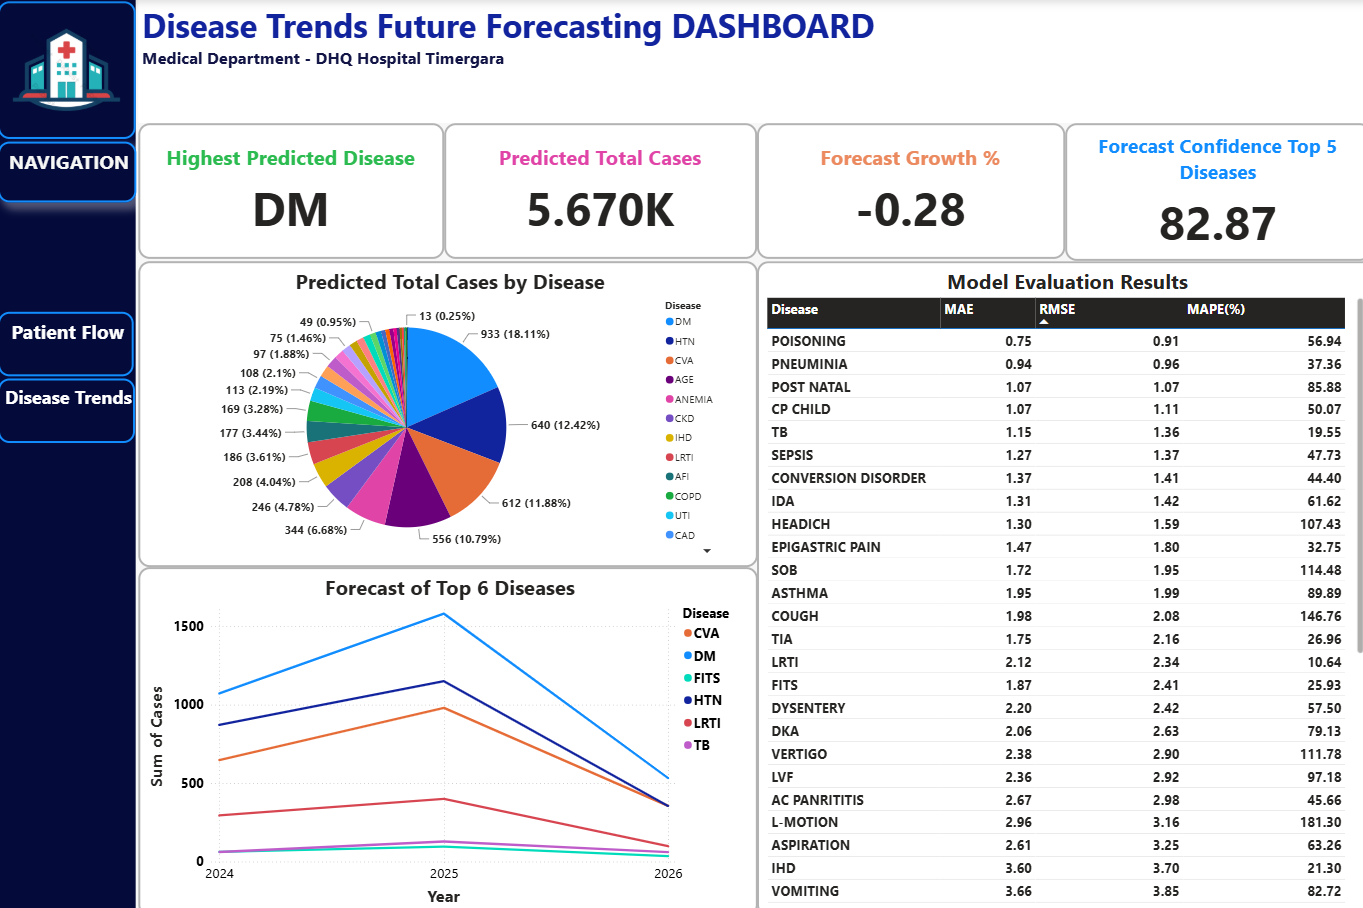

The page's visual inventory and layout, read from the dashboard file:
{"tool":"powerbi","page":{"name":"Forecasting","canvas":[1800,1200],"ordinal":2},"visuals":[{"type":"textbox","box":[0,0,180,1200],"z":0},{"type":"image","box":[0,2.9,180,180],"z":1000},{"type":"textbox","title":"NAVIGATION","box":[0,186.4,181,79.5],"z":2000},{"type":"actionButton","title":"Patient Flow","box":[0,409,177.4,84.2],"z":3000},{"type":"actionButton","title":"Disease Trends","box":[0,496.2,179,84.2],"z":4000},{"type":"textbox","box":[183.4,0,1617.8,162.4],"z":5000},{"type":"cardVisual","fields":{"Data":["COMBINED_DISEASE_DATASET.Highest Predicted Disease"]},"box":[183.4,162.4,399.9,177.4],"z":6000},{"type":"cardVisual","fields":{"Data":["COMBINED_DISEASE_DATASET.Predicted Total Cases"]},"box":[583.4,162.4,409,177.4],"z":7000},{"type":"cardVisual","fields":{"Data":["COMBINED_DISEASE_DATASET.Forecast Growth %"]},"box":[992.3,162.4,402.9,177.4],"z":8000},{"type":"cardVisual","fields":{"Data":["COMBINED_DISEASE_DATASET.Forecast Confidence"]},"box":[1396.7,163.3,400,180],"z":9000},{"type":"pieChart","fields":{"Category":["COMBINED_DISEASE_DATASET.Disease"],"Y":["COMBINED_DISEASE_DATASET.Predicted Total Cases"]},"box":[183.3,343.3,810,400],"z":10000},{"type":"lineChart","title":"Forecast of Top 6 Diseases","fields":{"Category":["COMBINED_DISEASE_DATASET.Date.Variation.Date Hierarchy.Year","COMBINED_DISEASE_DATASET.Date.Variation.Date Hierarchy.Month"],"Y":["Sum(COMBINED_DISEASE_DATASET.Cases)"],"Series":["COMBINED_DISEASE_DATASET.Disease"]},"box":[183.3,743.3,810,456.7],"z":11000},{"type":"tableEx","title":"Model Evaluation Results","fields":{"Values":["EVALUATION_RESULTS.Disease","EVALUATION_RESULTS.MAE","EVALUATION_RESULTS.RMSE","EVALUATION_RESULTS.MAPE(%)"]},"box":[993.3,343.3,806.7,856.7],"z":12000}]}

Visuals, with their boxes in screenshot pixels (x1, y1, x2, y2), scaled from the page's 1800x1200 canvas onto the 1363x908 screenshot:
textbox: region(0, 0, 136, 907)
image: region(0, 2, 136, 138)
"NAVIGATION" textbox: region(0, 141, 137, 201)
"Patient Flow" actionButton: region(0, 309, 134, 373)
"Disease Trends" actionButton: region(0, 375, 136, 439)
textbox: region(139, 0, 1362, 123)
cardVisual - COMBINED_DISEASE_DATASET.Highest Predicted Disease: region(139, 123, 442, 257)
cardVisual - COMBINED_DISEASE_DATASET.Predicted Total Cases: region(442, 123, 751, 257)
cardVisual - COMBINED_DISEASE_DATASET.Forecast Growth %: region(751, 123, 1056, 257)
cardVisual - COMBINED_DISEASE_DATASET.Forecast Confidence: region(1058, 124, 1361, 260)
pieChart - COMBINED_DISEASE_DATASET.Disease x COMBINED_DISEASE_DATASET.Predicted Total Cases: region(139, 260, 752, 562)
"Forecast of Top 6 Diseases" lineChart: region(139, 562, 752, 907)
"Model Evaluation Results" tableEx: region(752, 260, 1362, 907)
